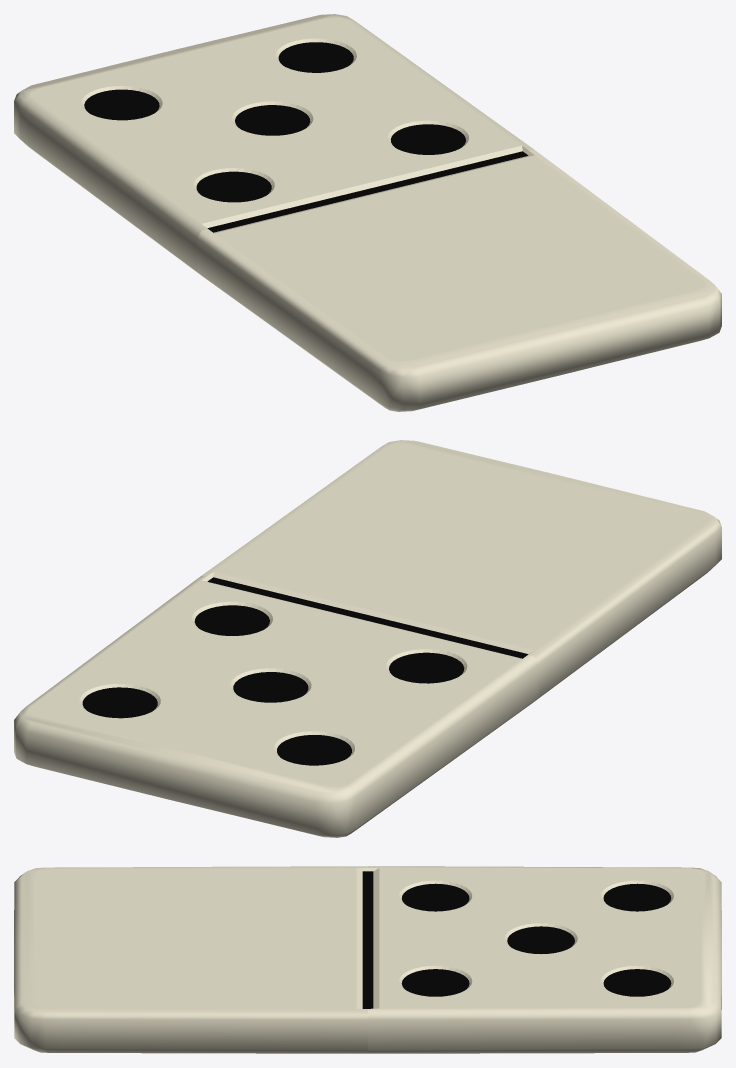
File: Domino_0_5.glb
The picture shows the model from 3 angles, top to bottom: view 1: azimuth 30°, elevation 25°; view 2: azimuth 150°, elevation 25°; view 3: azimuth 270°, elevation 25°; orthographic projection. The views are drawn at different scales.
Visible parts, largest first — view 1: Domino_0_5_A.001, Domino_0_5_B.001; view 2: Domino_0_5_B.001, Domino_0_5_A.001; view 3: Domino_0_5_A.001, Domino_0_5_B.001.
Boxes of the visible parts, x1,y1,x2,y2 form: Domino_0_5_A.001: (197,149,721,411); Domino_0_5_B.001: (14,14,533,276); Domino_0_5_B.001: (14,575,538,837); Domino_0_5_A.001: (202,440,721,702); Domino_0_5_A.001: (14,866,367,1053); Domino_0_5_B.001: (368,866,721,1053).
Bounding box in the file's own units: 0.7725 × 0.1053 × 1.54.
